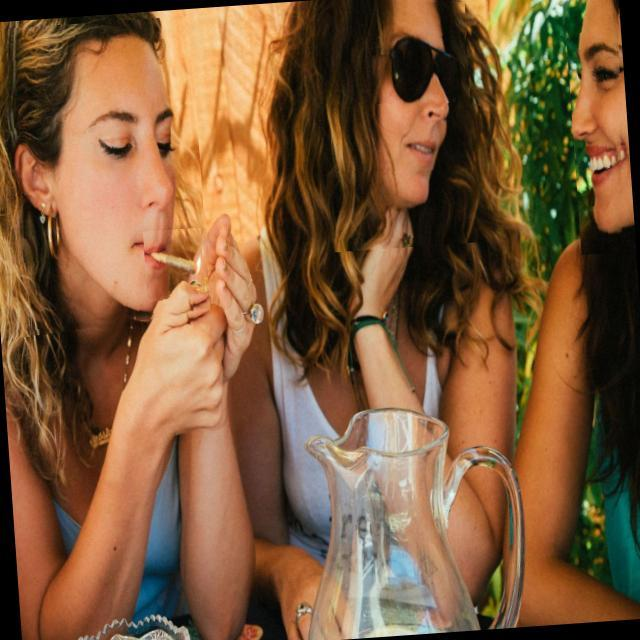cigarette: (142, 227, 205, 302)
